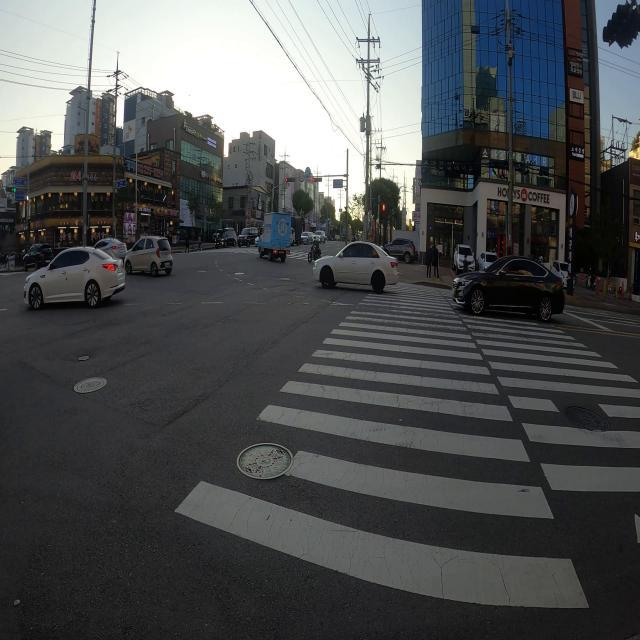crosswalk: (163, 285, 639, 628), (181, 243, 326, 264)
